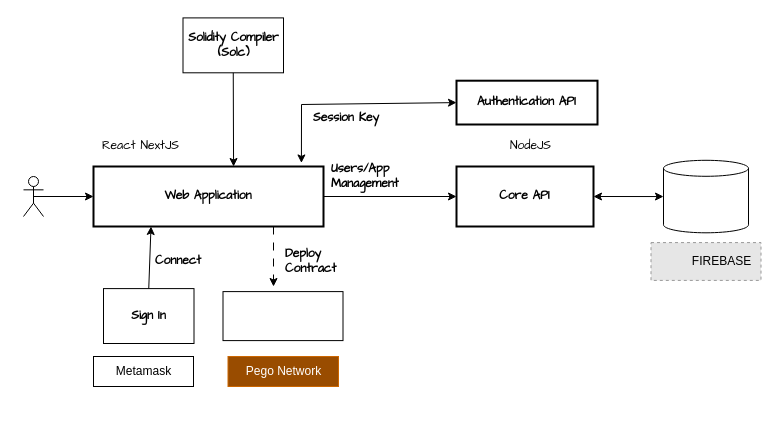
Image size: 779x429. Some labels were removed from this diagram. Grey dashed boxes stand in for pictures. Each missing label, with the centre of its shape:
Blockchain: the point at 282,316
Offchain Database: the point at 705,196
Users: the point at 33,196
